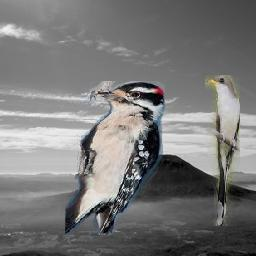Cuckoo: (206, 76, 241, 227)
Woodpecker: (65, 81, 165, 235)
